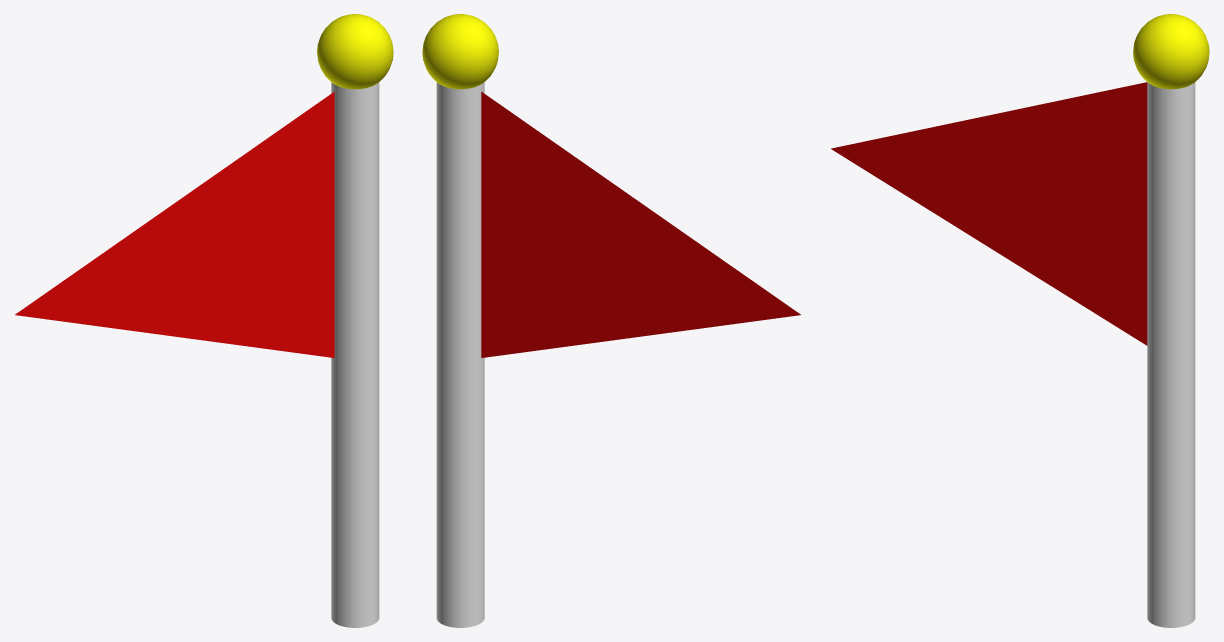
The model's file is goal.obj.
The picture shows the model from 3 angles, left to right: view 1: azimuth 30°, elevation 25°; view 2: azimuth 150°, elevation 25°; view 3: azimuth 330°, elevation 25°; orthographic projection.
Parts seen in each view (by area): view 1: 円柱; view 2: 円柱; view 3: 円柱.
Boxes of the visible parts, x1,y1,x2,y2 form: 円柱: (15, 14, 393, 627); 円柱: (422, 14, 800, 627); 円柱: (831, 14, 1209, 627).
Bounding box in the file's own units: 2.16 × 3.31 × 0.3829.
Materials: 1 (1 with a texture image).
